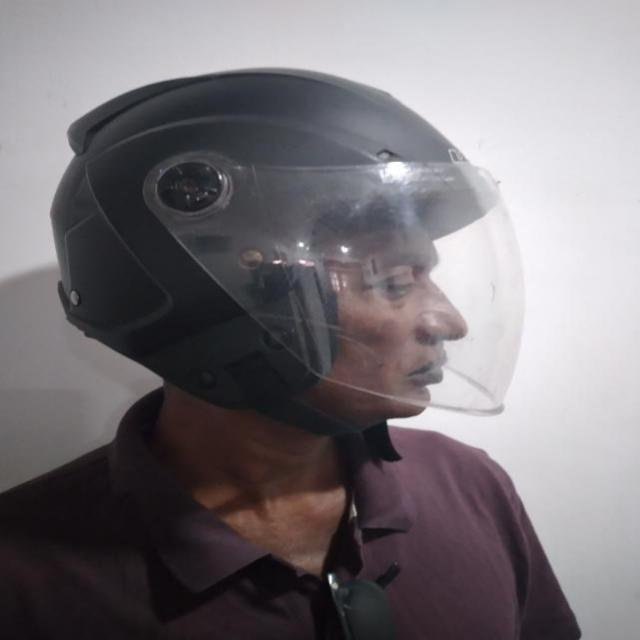With Helmet: (47, 64, 520, 426)
